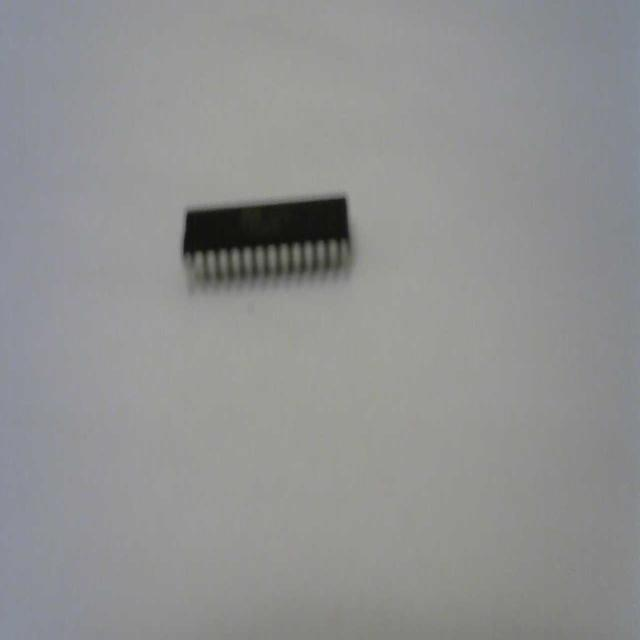atmega: (179, 189, 354, 295)
